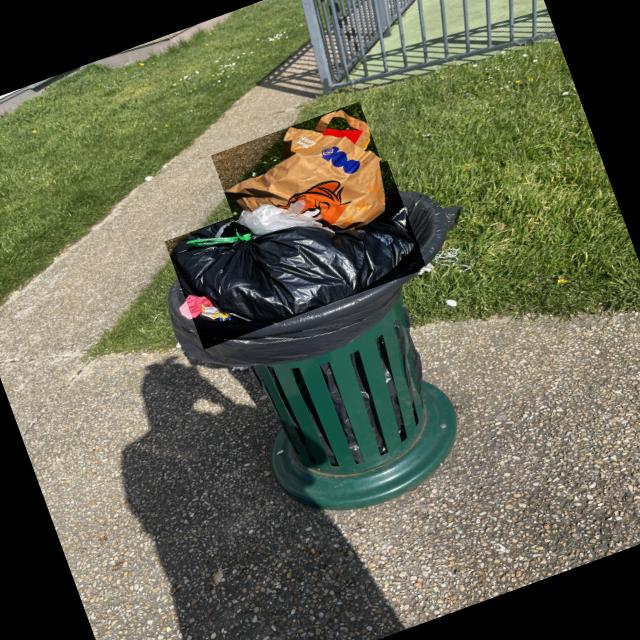Garbage bag: (172, 210, 416, 321)
Paper: (225, 109, 385, 229)
